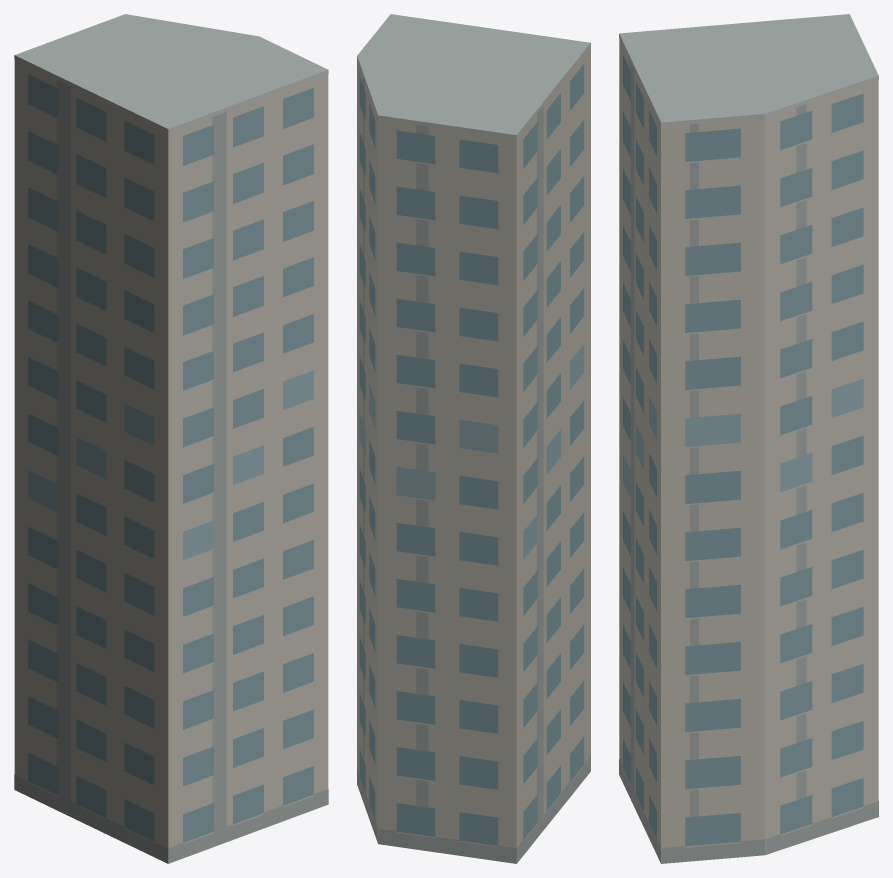
File: residential-0d983cd3-79ad-4ccd-9dc5-f28e98d20979.glb
3 renders of one model, left to right at view 1: azimuth 30°, elevation 25°; view 2: azimuth 150°, elevation 25°; view 3: azimuth 270°, elevation 25°, orthographic.
Visible parts, largest first — view 1: residential-0d983cd3-79ad-4ccd-9dc5-f28e98d20979.tmp; view 2: residential-0d983cd3-79ad-4ccd-9dc5-f28e98d20979.tmp; view 3: residential-0d983cd3-79ad-4ccd-9dc5-f28e98d20979.tmp.
Part boxes in pixels (left/top/right/bottom): residential-0d983cd3-79ad-4ccd-9dc5-f28e98d20979.tmp: left=14, top=14, right=328, bottom=863; residential-0d983cd3-79ad-4ccd-9dc5-f28e98d20979.tmp: left=357, top=14, right=590, bottom=863; residential-0d983cd3-79ad-4ccd-9dc5-f28e98d20979.tmp: left=619, top=14, right=878, bottom=863.
Bounding box in the file's own units: 12.89 × 41 × 13.03.
